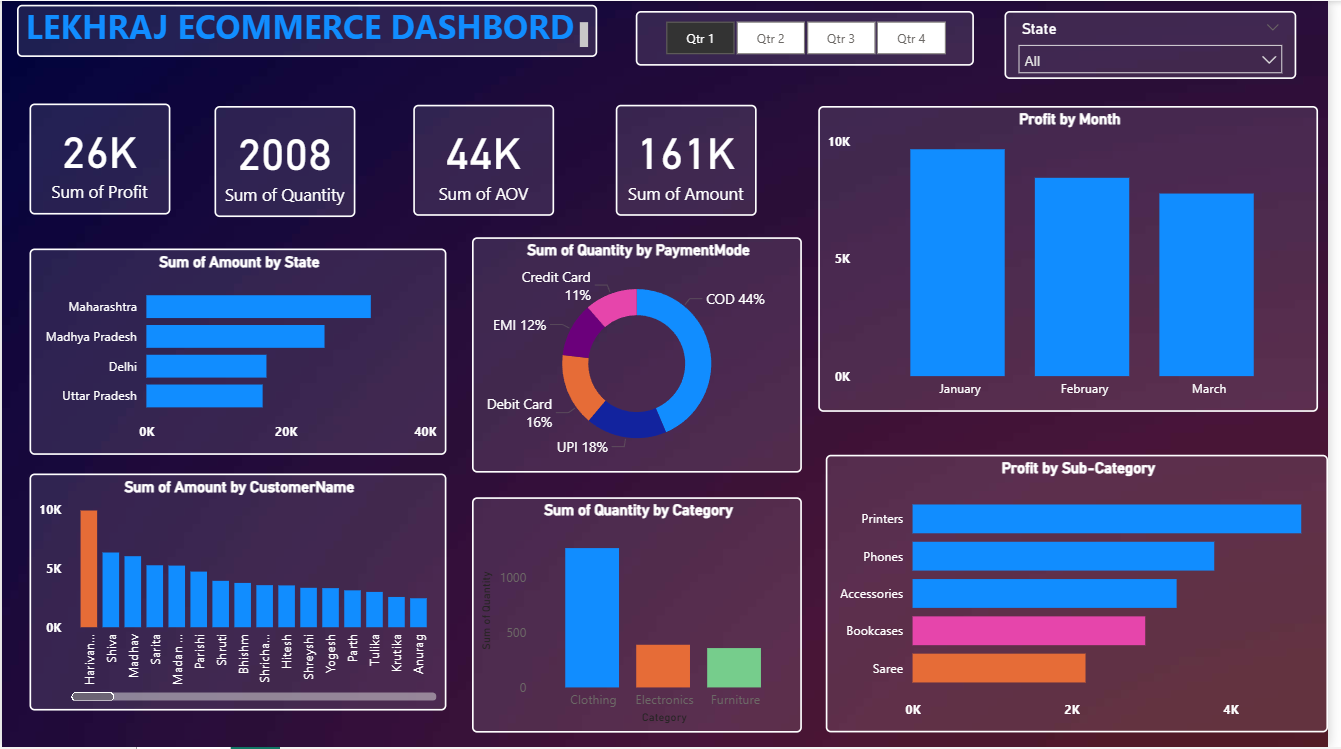

The dashboard page shown, as its layout file describes it:
{"tool":"powerbi","page":{"name":"Page 1","canvas":[1280,720],"ordinal":0},"visuals":[{"type":"textbox","box":[14.3,3.1,560.2,50],"z":0},{"type":"columnChart","title":"Profit by Month","fields":{"Category":["Orders.Order Date.Variation.Date Hierarchy.Month"],"Y":["Details.Profit"]},"box":[787.8,101,482.7,294.9],"z":1000},{"type":"barChart","title":"Profit by Sub-Category","fields":{"Category":["Details.Sub-Category"],"Y":["Details.Profit"]},"box":[794.9,437.8,484.7,268.4],"z":2000},{"type":"columnChart","fields":{"Category":["Details.Category"],"Y":["Details.Quantity"]},"box":[453.1,478.6,318.4,227.6],"z":3000},{"type":"donutChart","fields":{"Y":["Details.Quantity"],"Category":["Details.PaymentMode"]},"box":[453.1,228.6,318.4,227.6],"z":4000},{"type":"card","fields":{"Values":["Details.Amount"]},"box":[592.9,100,135.7,107.1],"z":5000},{"type":"card","fields":{"Values":["Details.Quantity"]},"box":[205.1,101,135.7,107.1],"z":6000},{"type":"card","fields":{"Values":["Details.Profit"]},"box":[26.5,99,135.7,107.1],"z":7000},{"type":"card","fields":{"Values":["Details.AOV"]},"box":[396.9,100,135.7,107.1],"z":8000},{"type":"barChart","title":"Sum of Amount by State","fields":{"Category":["Orders.State"],"Y":["Details.Amount"]},"box":[26.5,238.8,402,199],"z":9000},{"type":"columnChart","fields":{"Category":["Orders.CustomerName"],"Y":["Details.Amount"]},"box":[26.5,456.1,402,228.6],"z":10000},{"type":"slicer","fields":{"Values":["Orders.Order Date.Variation.Date Hierarchy.Quarter"]},"box":[612.2,10.2,326.5,53.1],"z":11000},{"type":"slicer","fields":{"Values":["Orders.State"]},"box":[967.3,10.2,281.6,65.3],"z":11001}]}

Visuals, with their boxes in screenshot pixels (x1, y1, x2, y2), scaled from the page's 1280x720 canvas onto the 1341x749 screenshot:
textbox: (x1=15, y1=3, x2=602, y2=55)
"Profit by Month" columnChart: (x1=825, y1=105, x2=1331, y2=412)
"Profit by Sub-Category" barChart: (x1=833, y1=455, x2=1340, y2=735)
columnChart - Details.Category x Details.Quantity: (x1=475, y1=498, x2=808, y2=735)
donutChart - Details.Quantity x Details.PaymentMode: (x1=475, y1=238, x2=808, y2=475)
card - Details.Amount: (x1=621, y1=104, x2=763, y2=215)
card - Details.Quantity: (x1=215, y1=105, x2=357, y2=216)
card - Details.Profit: (x1=28, y1=103, x2=170, y2=214)
card - Details.AOV: (x1=416, y1=104, x2=558, y2=215)
"Sum of Amount by State" barChart: (x1=28, y1=248, x2=449, y2=455)
columnChart - Orders.CustomerName x Details.Amount: (x1=28, y1=474, x2=449, y2=712)
slicer - Orders.Order Date.Variation.Date Hierarchy.Quarter: (x1=641, y1=11, x2=983, y2=66)
slicer - Orders.State: (x1=1013, y1=11, x2=1308, y2=79)
